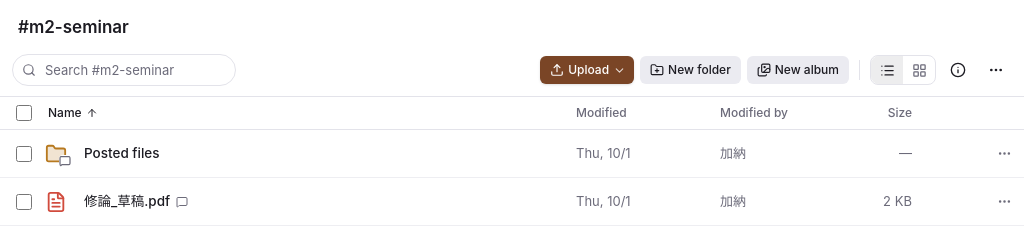
Test: the drive (§12.2) › shows 「投稿のファイル」 with its icon and in the UI language, without rename, move or trash
This screenshot has width=1024, height=243.
Expected: the text "Posted files" is shown, left=84, top=143, right=160, bottom=164
Right-click the row "Posted files Thu, 10/1 加納 —" at (512, 154), box left=0, top=130, right=1023, bottom=178
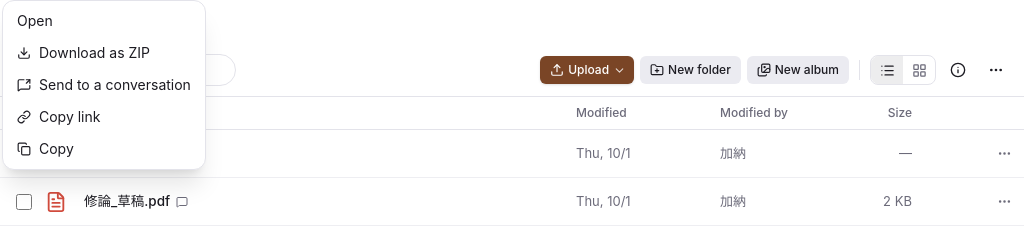
Expected: the menu item "Download as ZIP" is shown, left=17, top=44, right=150, bottom=61
